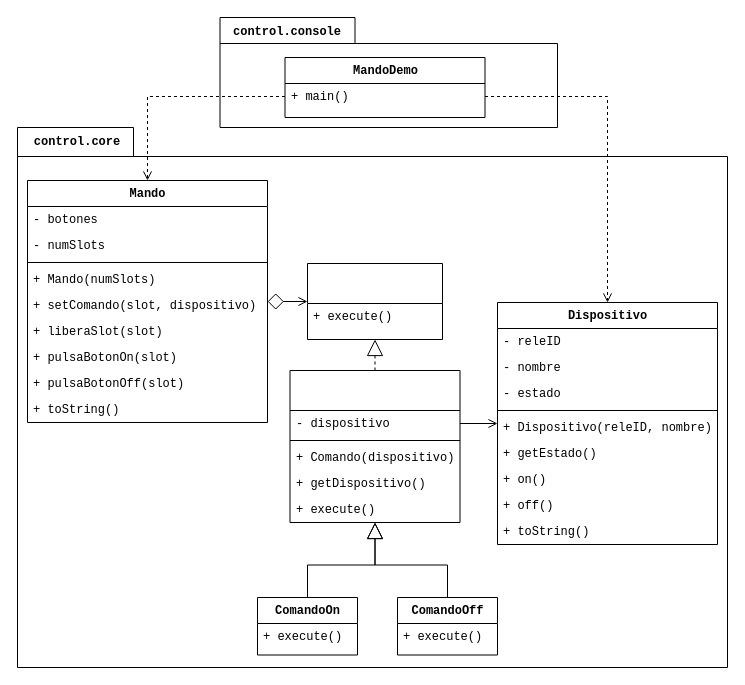
Some shapes in this 745 by 685 pixel diagram are drawn without their labels. Each missing label, with the box of its shape:
<<abstract>> Comando: (289, 370, 460, 522)
<<interface>> IComm: (306, 262, 442, 340)
